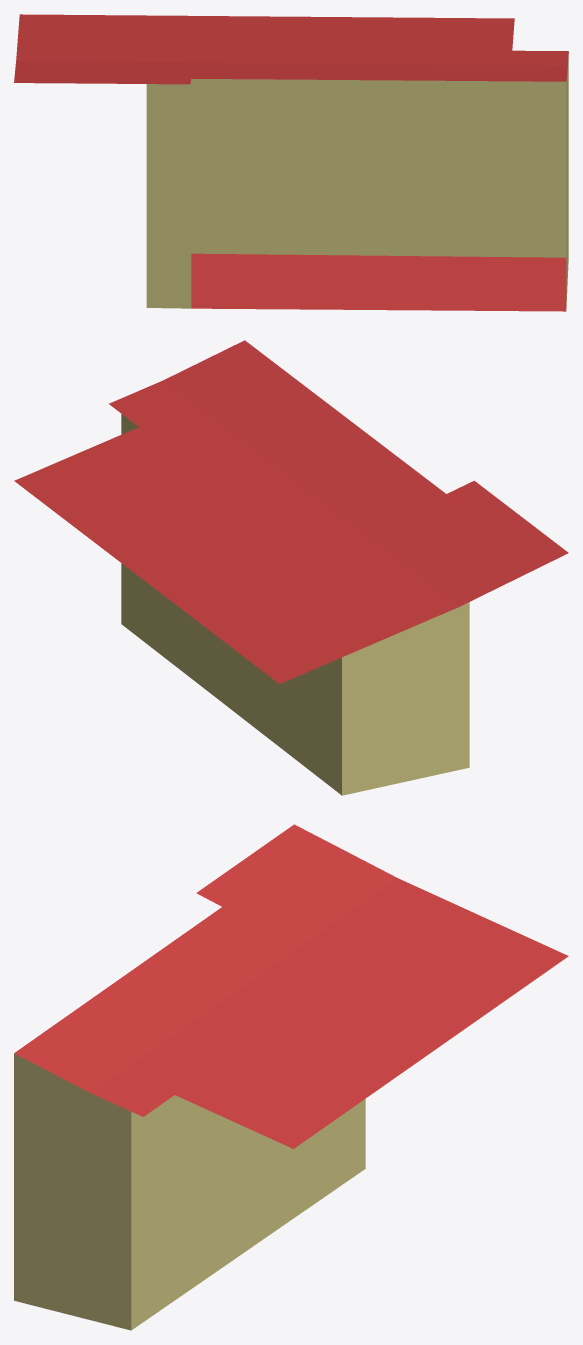
The picture shows the model from 3 angles, top to bottom: view 1: azimuth 30°, elevation 25°; view 2: azimuth 150°, elevation 25°; view 3: azimuth 270°, elevation 25°; orthographic projection. The views are drawn at different scales.
Size of the model in its own units: 13.63 by 12.15 by 6.15.
